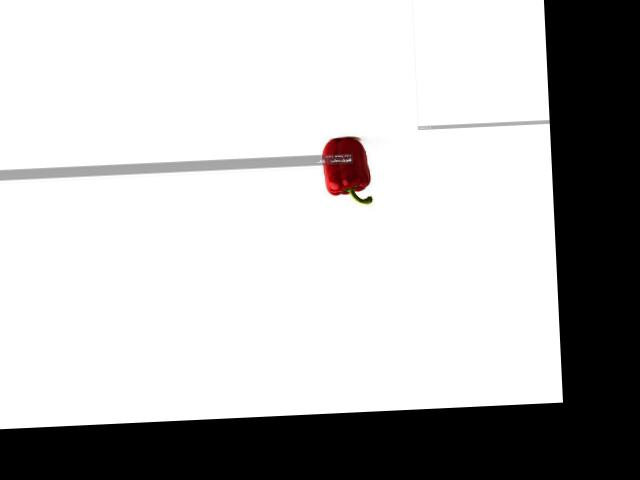bell_pepper: (318, 137, 379, 209)
